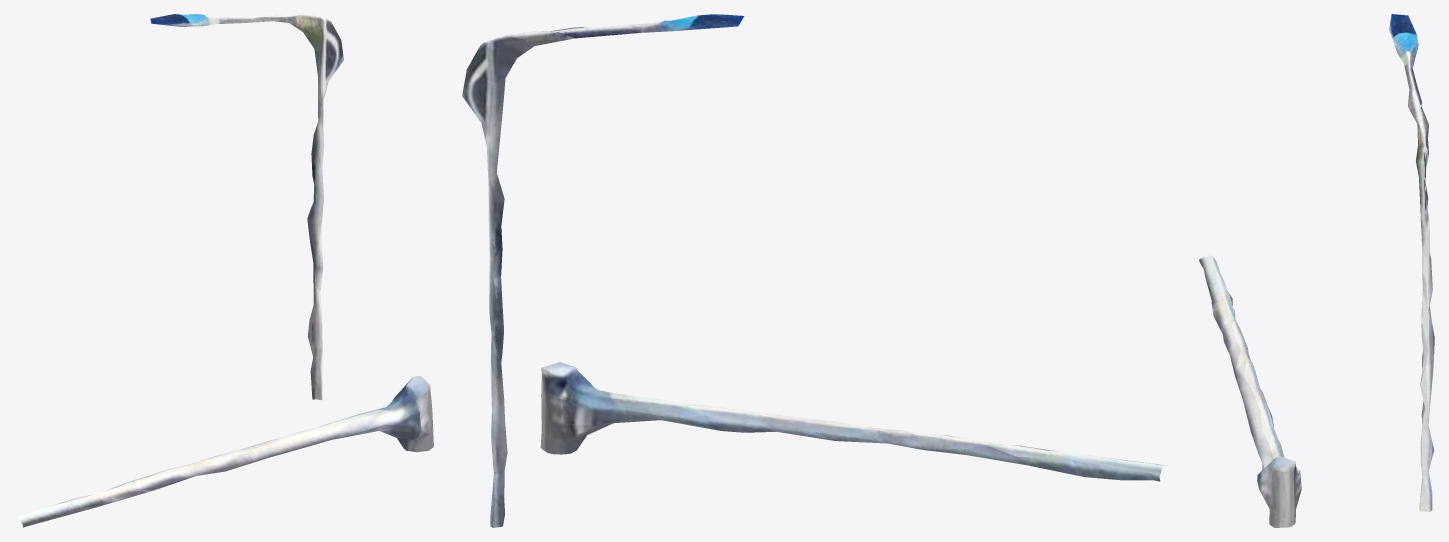
The model's file is Tile_+006_+007_L22_0001240.glb.
3 renders of one model, left to right at view 1: azimuth 30°, elevation 25°; view 2: azimuth 150°, elevation 25°; view 3: azimuth 270°, elevation 25°, orthographic. The views are drawn at different scales.
Visible parts, largest first — view 1: rtc; view 2: rtc; view 3: rtc.
Boxes of the visible parts, left/top/right/bottom form: rtc: left=17, top=14, right=433, bottom=527; rtc: left=462, top=14, right=1166, bottom=527; rtc: left=1199, top=14, right=1434, bottom=527.
Size of the model in its own units: 6.63 by 6.05 by 3.13.
1 material, 1 textured.
